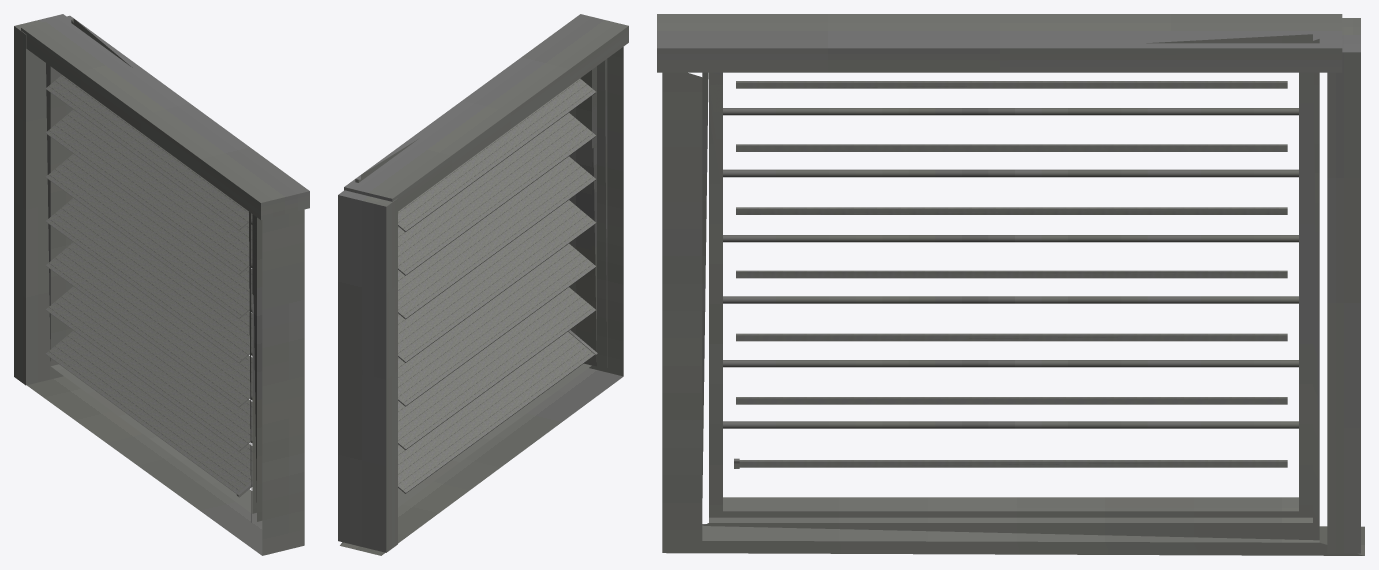
Rendered from Regilla.obj.
3 views of the same model, side by side, from view 1: azimuth 30°, elevation 25°; view 2: azimuth 150°, elevation 25°; view 3: azimuth 270°, elevation 25° (orthographic). The views are drawn at different scales.
Parts seen in each view (by area): view 1: pCube3; view 2: pCube3; view 3: pCube3.
Part boxes in pixels (x1=…): pCube3: x1=14, y1=14, x2=309, y2=555; pCube3: x1=338, y1=14, x2=628, y2=555; pCube3: x1=657, y1=14, x2=1364, y2=555.
Bounding box in the file's own units: 0.6053 × 4.25 × 5.25.
Materials: 1 (1 with a texture image).
